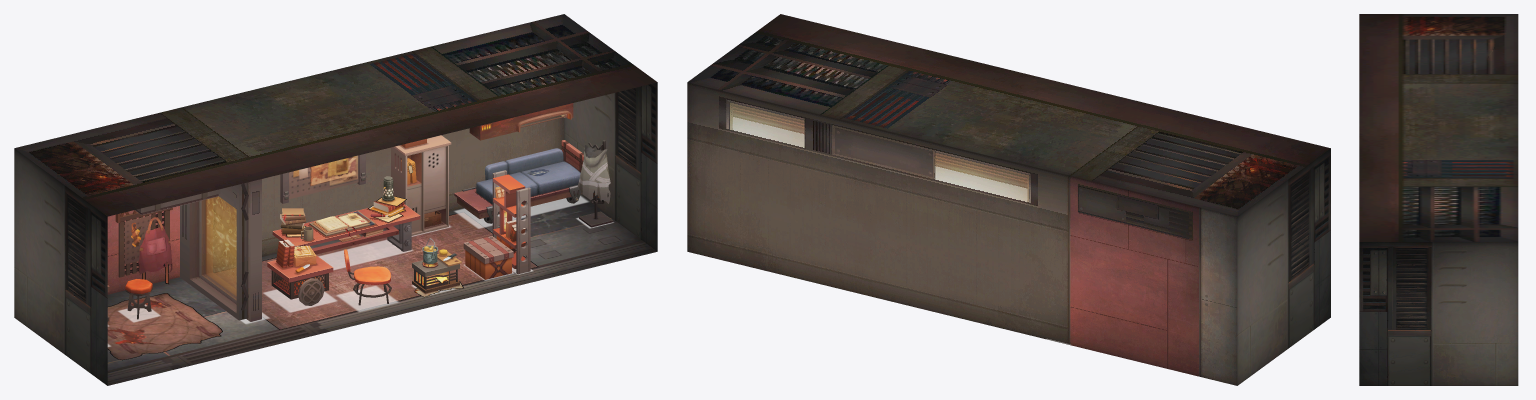
File: hodrerStudy.glb
3 views of the same model, side by side, from view 1: azimuth 30°, elevation 25°; view 2: azimuth 150°, elevation 25°; view 3: azimuth 270°, elevation 25° (orthographic). The views are drawn at different scales.
Parts seen in each view (by area): view 1: ROOM_room, ROOM_floor, furni_hodrerStudy_carpet_01, furni_hodrerStudy_glassWall_01, furni_hodrerStudy_groundMat_01, furni_hodrerStudy_sofaBed_01, furni_hodrerStudy_bookshelf_01, furni_hodrerStudy_cabinet_01, furni_hodrerStudy_workTable_01, furni_hodrerStudy_glassWall_02, furni_hodrerStudy_sideTable_01, furni_hodrerStudy_dataTablet_01 (+15 smaller); view 2: ROOM_room, ROOM_LDoor; view 3: ROOM_room, ROOM_RDoor.
Part boxes in pixels (x1=…): ROOM_room: x1=14, y1=14, x2=657, y2=385; ROOM_floor: x1=107, y1=195, x2=657, y2=385; furni_hodrerStudy_carpet_01: x1=214, y1=212, x2=538, y2=329; furni_hodrerStudy_glassWall_01: x1=180, y1=179, x2=261, y2=321; furni_hodrerStudy_groundMat_01: x1=107, y1=293, x2=222, y2=360; furni_hodrerStudy_sofaBed_01: x1=454, y1=140, x2=583, y2=223; furni_hodrerStudy_bookshelf_01: x1=463, y1=170, x2=530, y2=279; furni_hodrerStudy_cabinet_01: x1=391, y1=135, x2=451, y2=235; furni_hodrerStudy_workTable_01: x1=272, y1=176, x2=420, y2=254; furni_hodrerStudy_glassWall_02: x1=205, y1=196, x2=236, y2=295; furni_hodrerStudy_sideTable_01: x1=267, y1=239, x2=333, y2=305; furni_hodrerStudy_dataTablet_01: x1=280, y1=153, x2=366, y2=203; ROOM_room: x1=687, y1=14, x2=1330, y2=385; ROOM_LDoor: x1=1298, y1=251, x2=1316, y2=341; ROOM_room: x1=1359, y1=14, x2=1518, y2=385; ROOM_RDoor: x1=1383, y1=320, x2=1415, y2=385.
Size of the model in its own units: 7.5 by 2.2 by 2.25.
7 materials, 7 textured.
